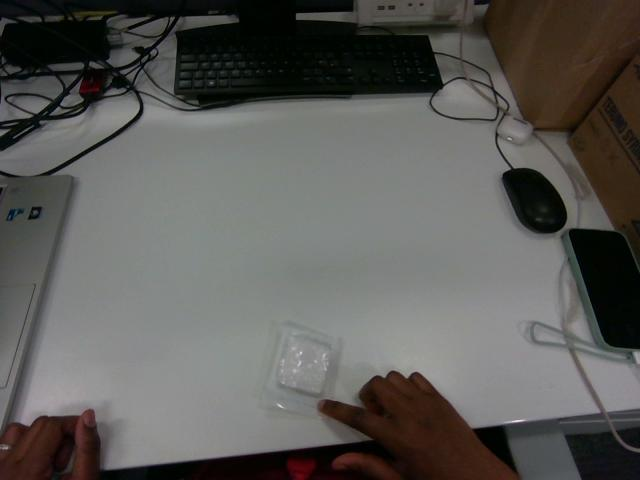gauze: (261, 322, 340, 415)
